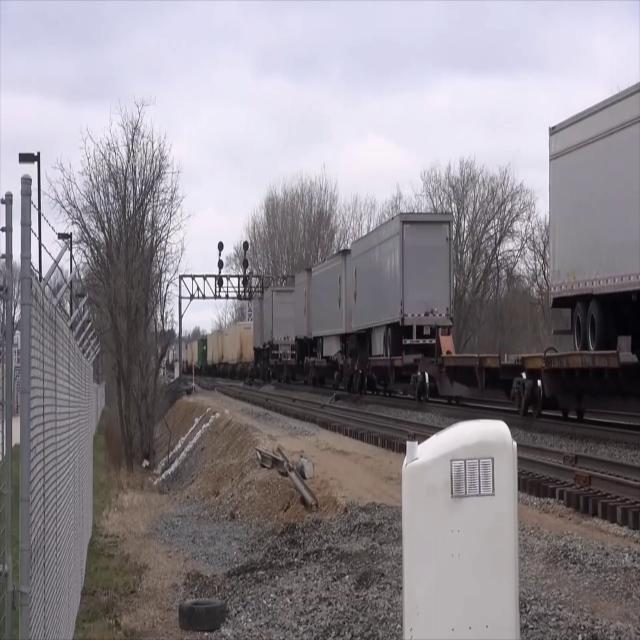cargo: (545, 72, 640, 352), (350, 209, 456, 358), (310, 244, 350, 360), (261, 283, 293, 360), (293, 263, 311, 359)
flatcar: (479, 349, 640, 421)
